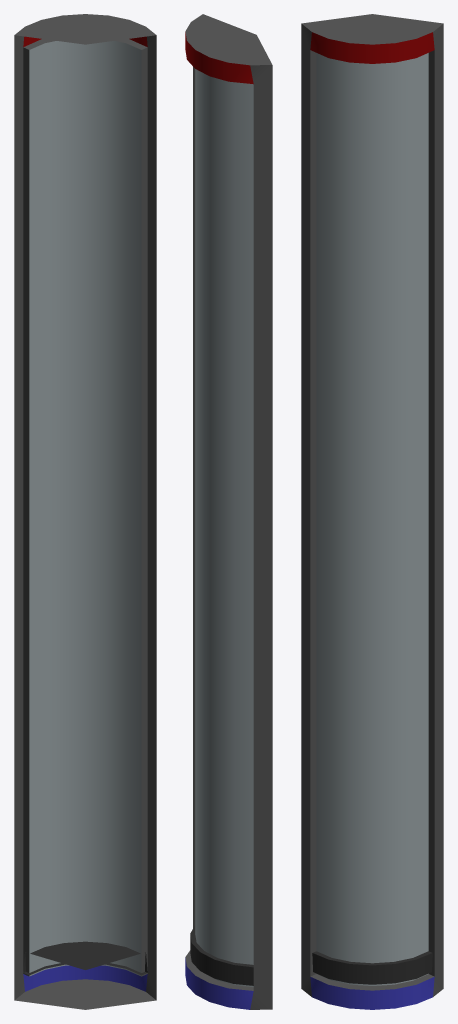
Rendered from Temperature_Rising.fbx.
3 views of the same model, side by side, from view 1: azimuth 90°, elevation 25°; view 2: azimuth 210°, elevation 25°; view 3: azimuth 270°, elevation 25° (orthographic). The views are drawn at different scales.
Parts seen in each view (by area): view 1: temp, handle; view 2: temp, handle; view 3: temp, handle.
Boxes of the visible parts, x1,y1,x2,y2 form: temp: (14, 14, 156, 1009); handle: (23, 941, 147, 975); temp: (185, 14, 272, 1009); handle: (190, 925, 253, 985); temp: (301, 14, 443, 1009); handle: (312, 951, 432, 984).
Bounding box in the file's own units: 2.29 × 31.15 × 4.16.
